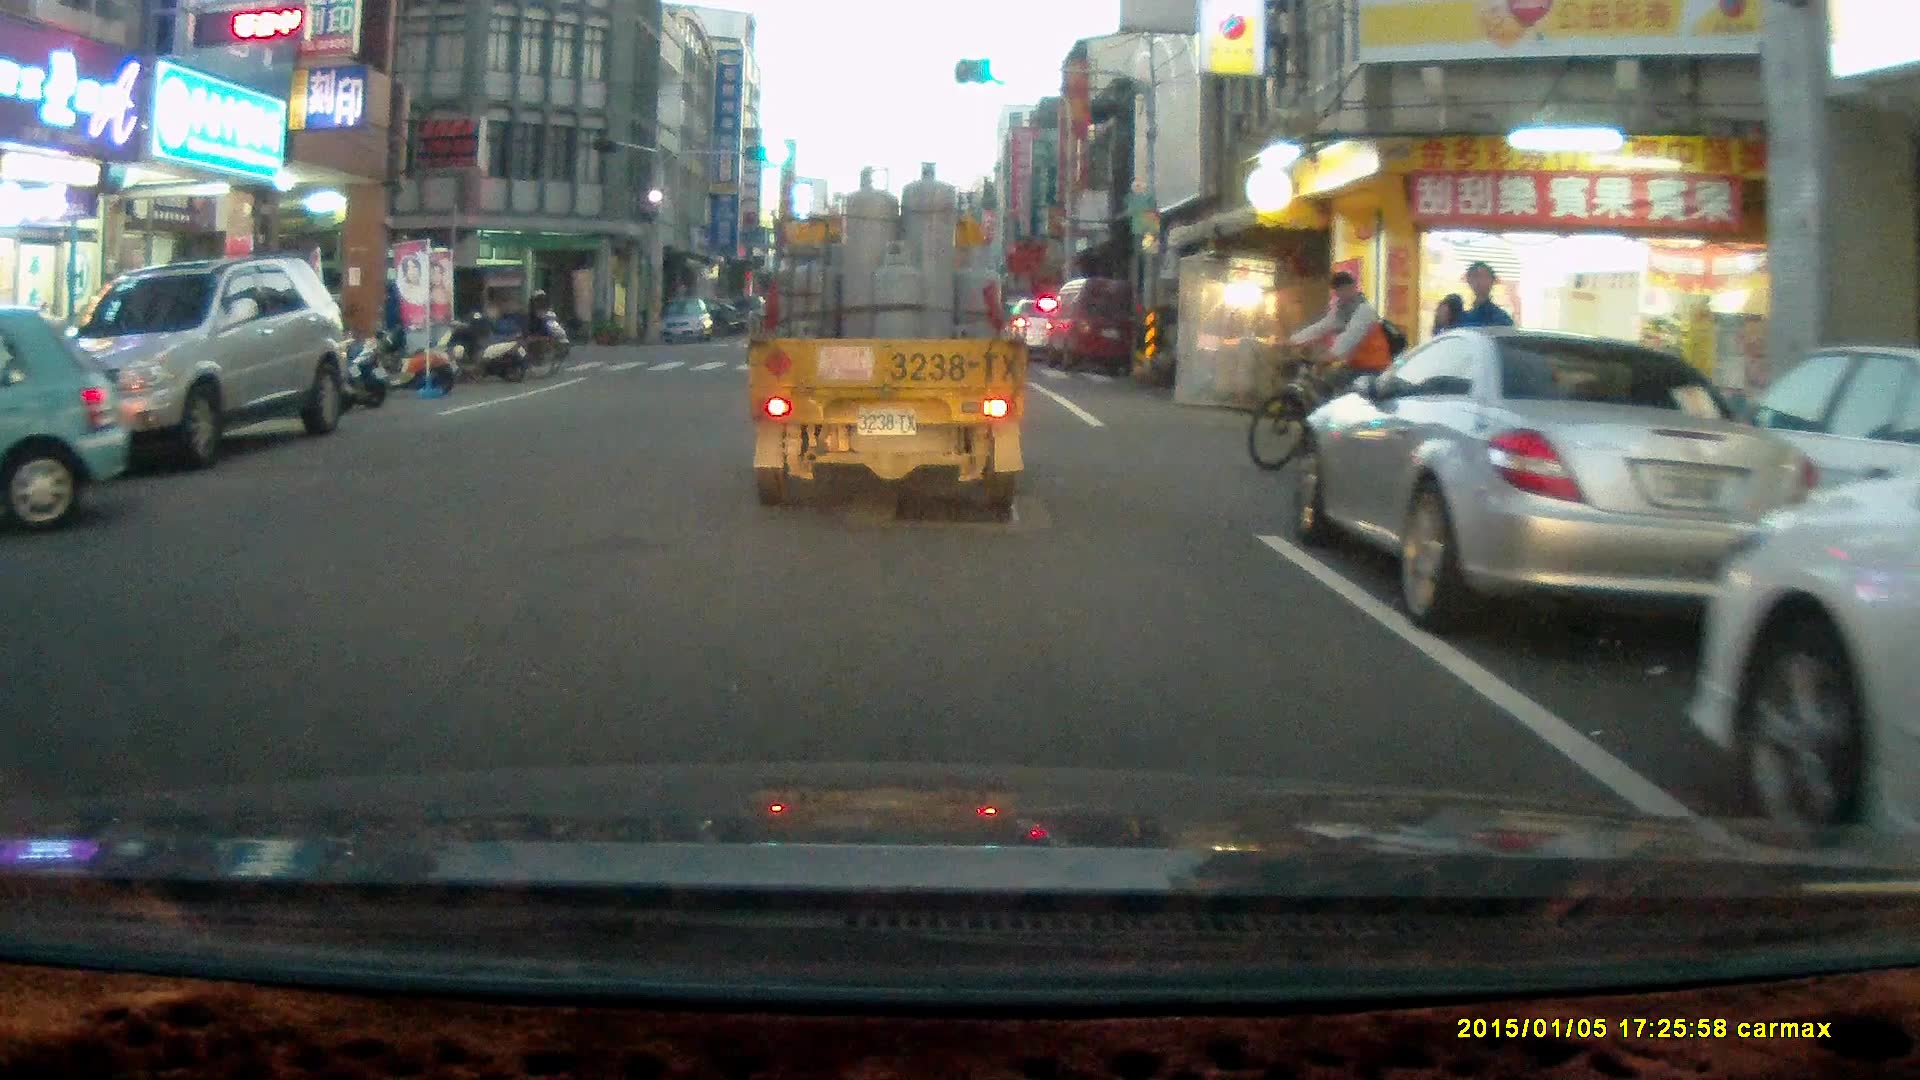rider: (1249, 269, 1422, 474), (508, 282, 572, 362)
vehicle: (1293, 329, 1804, 641), (747, 162, 1034, 515), (1689, 444, 1920, 884), (46, 256, 360, 467), (1, 316, 133, 536), (333, 261, 531, 365), (1049, 274, 1151, 370), (1028, 292, 1088, 361), (656, 295, 717, 348)
